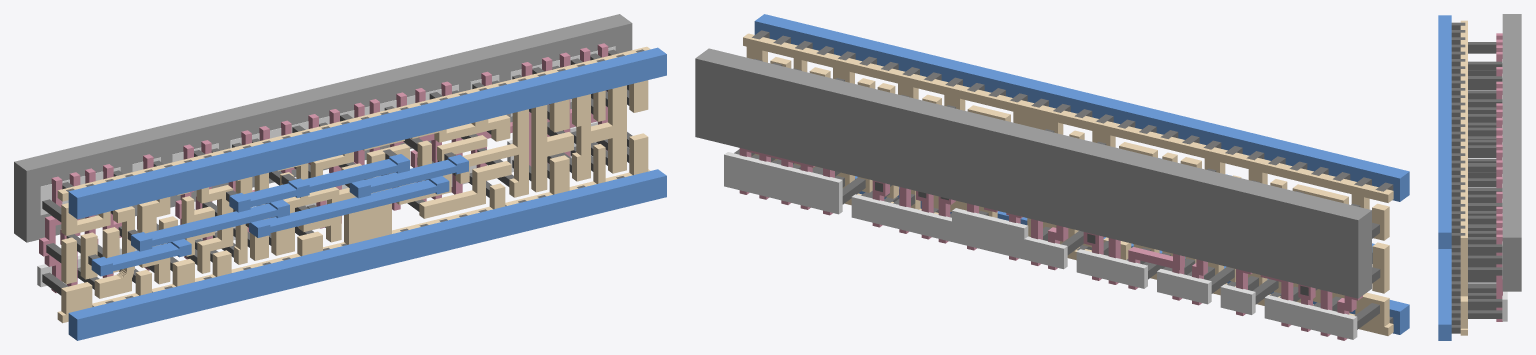
File: sky130_fd_sc_hd__sdfstp_4.gds.gltf
3 views of the same model, side by side, from view 1: azimuth 30°, elevation 25°; view 2: azimuth 150°, elevation 25°; view 3: azimuth 270°, elevation 25° (orthographic). The views are drawn at different scales.
Visible parts, largest first — view 1: sky130_fd_sc_hd__sdfstp_4_met1, sky130_fd_sc_hd__sdfstp_4_li1, sky130_fd_sc_hd__sdfstp_4_nwell, sky130_fd_sc_hd__sdfstp_4_poly, sky130_fd_sc_hd__sdfstp_4_licon, sky130_fd_sc_hd__sdfstp_4_diff, sky130_fd_sc_hd__sdfstp_4_mcon; view 2: sky130_fd_sc_hd__sdfstp_4_nwell, sky130_fd_sc_hd__sdfstp_4_li1, sky130_fd_sc_hd__sdfstp_4_diff, sky130_fd_sc_hd__sdfstp_4_met1, sky130_fd_sc_hd__sdfstp_4_poly, sky130_fd_sc_hd__sdfstp_4_licon, sky130_fd_sc_hd__sdfstp_4_mcon; view 3: sky130_fd_sc_hd__sdfstp_4_licon, sky130_fd_sc_hd__sdfstp_4_nwell, sky130_fd_sc_hd__sdfstp_4_met1, sky130_fd_sc_hd__sdfstp_4_mcon, sky130_fd_sc_hd__sdfstp_4_li1, sky130_fd_sc_hd__sdfstp_4_poly, sky130_fd_sc_hd__sdfstp_4_diff.
Part boxes in pixels (bbox=[...]): sky130_fd_sc_hd__sdfstp_4_met1: bbox=[68, 47, 666, 340]; sky130_fd_sc_hd__sdfstp_4_li1: bbox=[57, 46, 650, 323]; sky130_fd_sc_hd__sdfstp_4_nwell: bbox=[14, 14, 632, 242]; sky130_fd_sc_hd__sdfstp_4_poly: bbox=[39, 43, 608, 293]; sky130_fd_sc_hd__sdfstp_4_licon: bbox=[42, 49, 632, 295]; sky130_fd_sc_hd__sdfstp_4_diff: bbox=[37, 46, 615, 287]; sky130_fd_sc_hd__sdfstp_4_mcon: bbox=[66, 49, 644, 306]; sky130_fd_sc_hd__sdfstp_4_nwell: bbox=[695, 48, 1371, 298]; sky130_fd_sc_hd__sdfstp_4_li1: bbox=[743, 33, 1393, 335]; sky130_fd_sc_hd__sdfstp_4_diff: bbox=[724, 152, 1357, 339]; sky130_fd_sc_hd__sdfstp_4_met1: bbox=[754, 14, 1409, 334]; sky130_fd_sc_hd__sdfstp_4_poly: bbox=[739, 148, 1362, 340]; sky130_fd_sc_hd__sdfstp_4_licon: bbox=[734, 59, 1380, 329]; sky130_fd_sc_hd__sdfstp_4_mcon: bbox=[752, 30, 1393, 323]; sky130_fd_sc_hd__sdfstp_4_licon: bbox=[1468, 42, 1502, 318]; sky130_fd_sc_hd__sdfstp_4_nwell: bbox=[1502, 14, 1521, 291]; sky130_fd_sc_hd__sdfstp_4_met1: bbox=[1438, 15, 1451, 340]; sky130_fd_sc_hd__sdfstp_4_mcon: bbox=[1451, 22, 1465, 333]; sky130_fd_sc_hd__sdfstp_4_li1: bbox=[1460, 20, 1467, 335]; sky130_fd_sc_hd__sdfstp_4_poly: bbox=[1496, 33, 1502, 321]; sky130_fd_sc_hd__sdfstp_4_diff: bbox=[1502, 59, 1507, 321].
Bounding box in the file's own units: 14.18 × 3.2 × 2.24.
